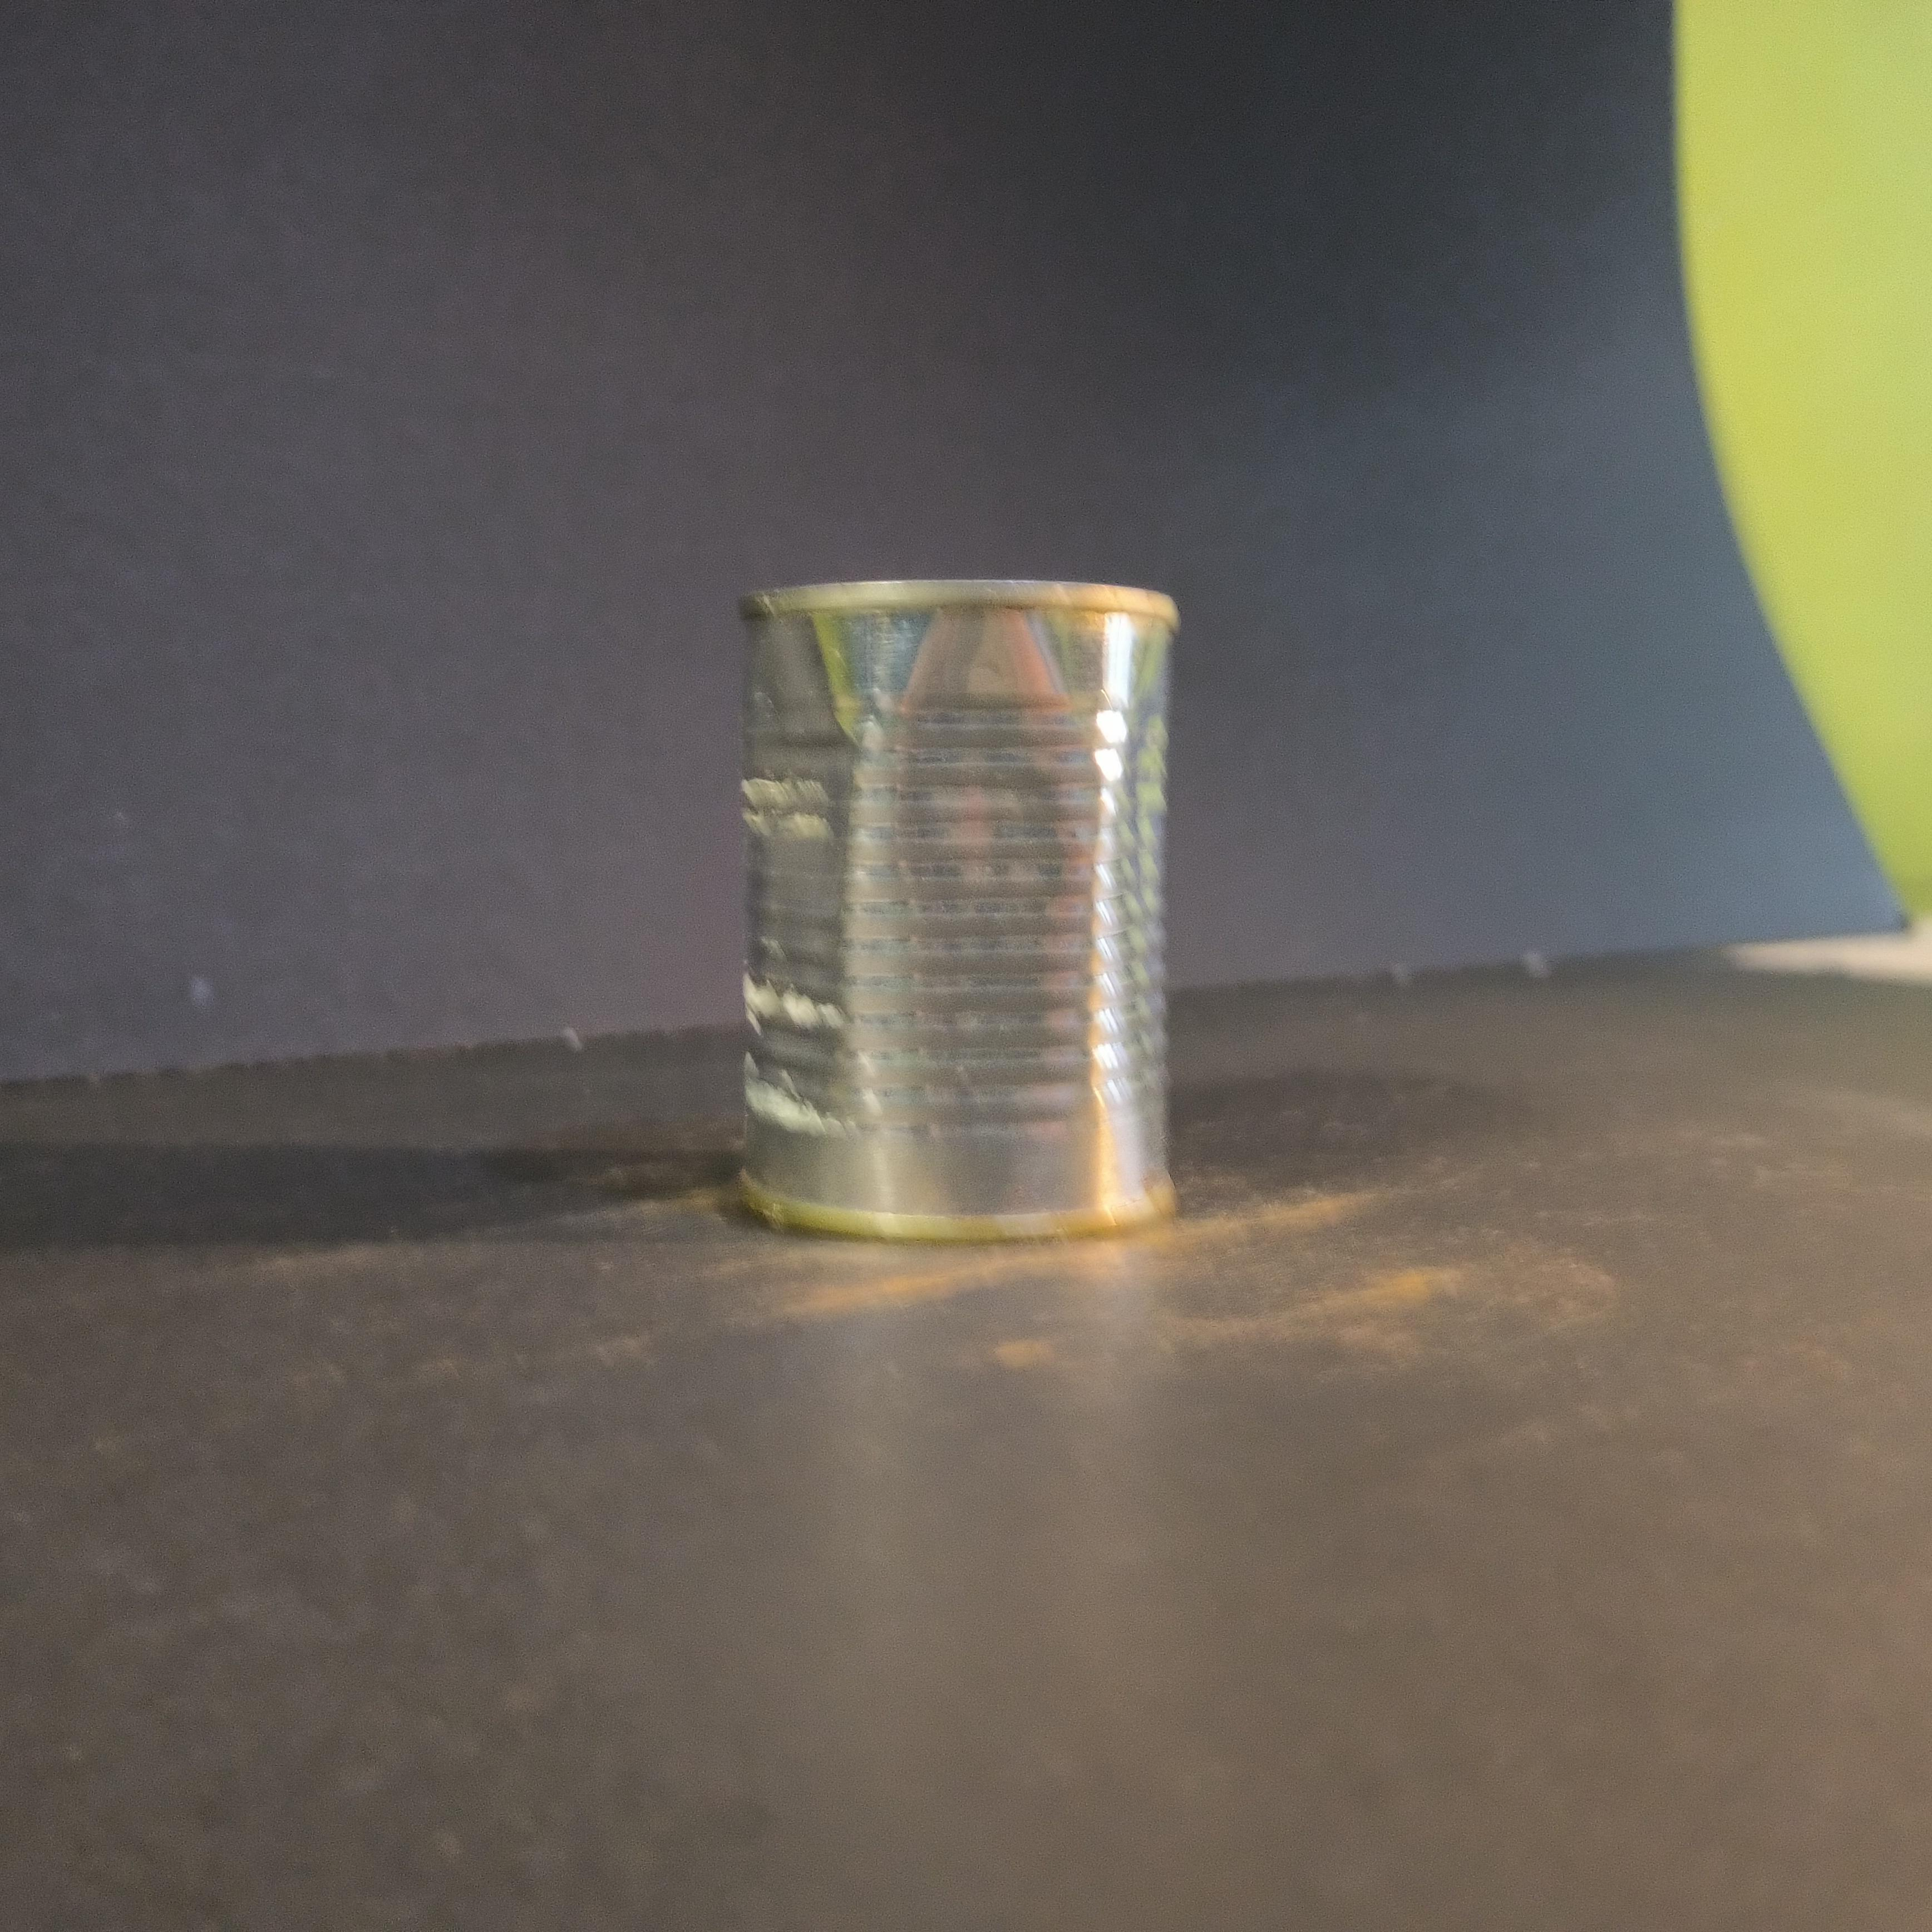Minor Defect: (736, 578, 1181, 1241)
